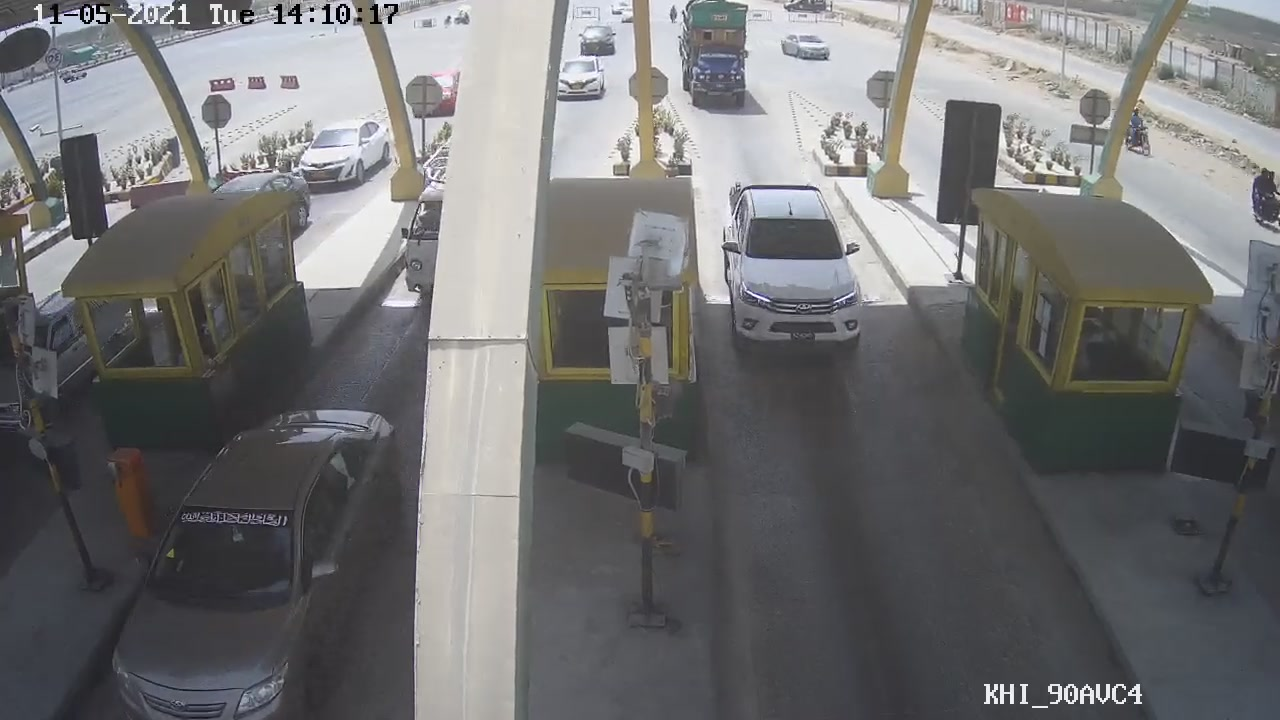F1: (709, 173, 867, 353)
